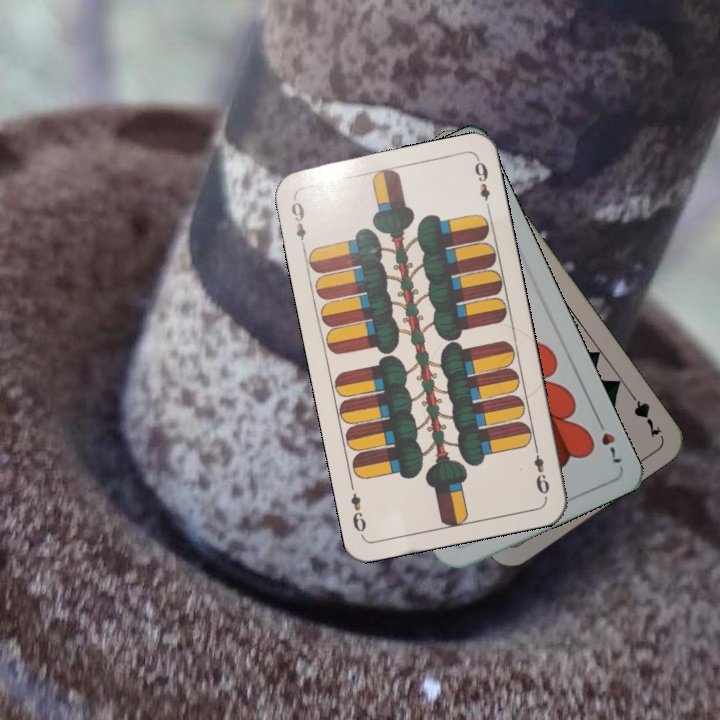E9: (529, 441, 553, 497), (287, 197, 309, 252)
G7: (623, 386, 664, 440)
H7: (591, 412, 625, 466)
